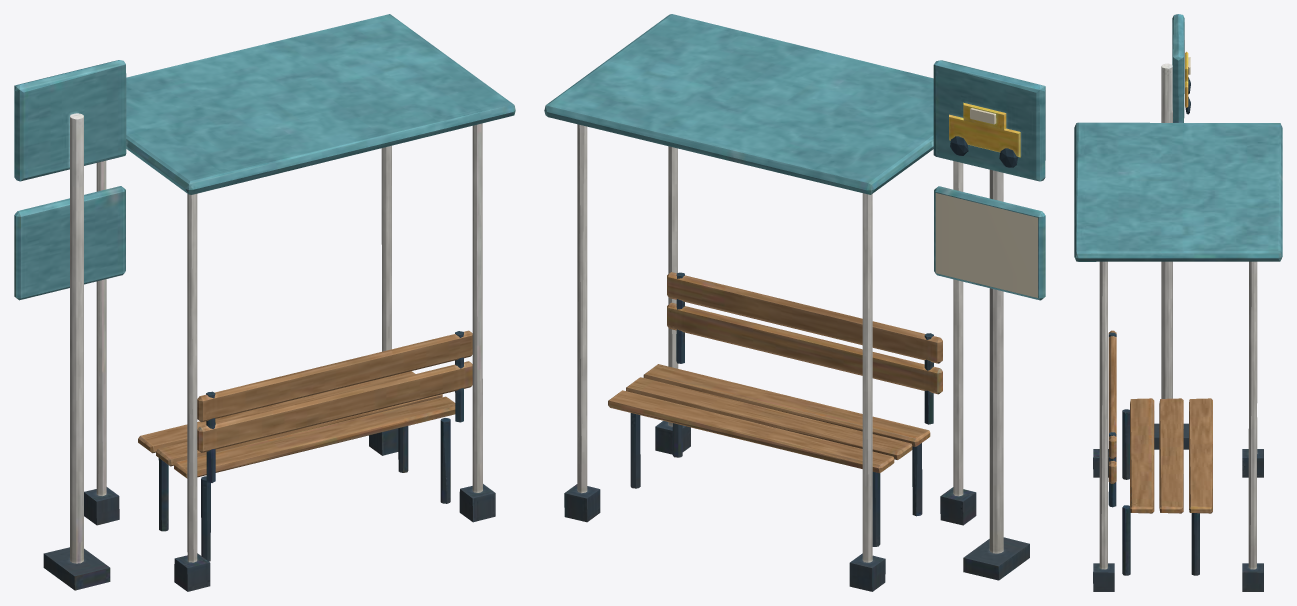
File: taxi_stop_low.glb
3 views of the same model, side by side, from view 1: azimuth 30°, elevation 25°; view 2: azimuth 150°, elevation 25°; view 3: azimuth 270°, elevation 25° (orthographic). The views are drawn at different scales.
Size of the model in its own units: 2.4 by 2.6 by 1.2.
3 materials, 1 textured.
